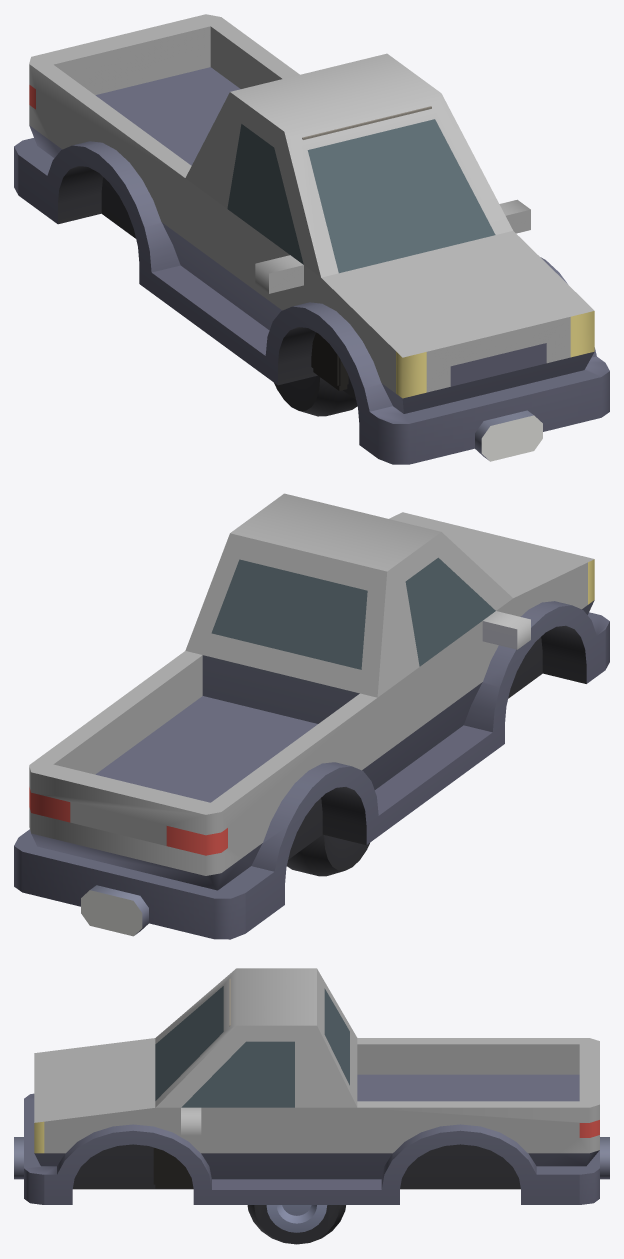
File: lagoon-pickup-v1.glb
3 views of the same model, one above another, from view 1: azimuth 30°, elevation 25°; view 2: azimuth 150°, elevation 25°; view 3: azimuth 270°, elevation 25° (orthographic). The views are drawn at different scales.
Visible parts, largest first — view 1: paint, trim, glass, headlamp, wheel, plate, interior; view 2: paint, trim, glass, wheel, taillamp, plate; view 3: paint, trim, glass, wheel, interior.
Boxes of the visible parts, bbox=[...] form: paint: bbox=[29, 14, 594, 393]; trim: bbox=[14, 67, 609, 464]; glass: bbox=[227, 119, 495, 273]; headlamp: bbox=[396, 311, 594, 398]; wheel: bbox=[274, 375, 357, 416]; plate: bbox=[481, 415, 542, 461]; interior: bbox=[302, 106, 431, 390]; paint: bbox=[29, 493, 594, 875]; trim: bbox=[14, 600, 609, 939]; glass: bbox=[211, 557, 495, 669]; wheel: bbox=[287, 834, 369, 876]; taillamp: bbox=[29, 787, 227, 855]; plate: bbox=[81, 890, 142, 936]; paint: bbox=[34, 968, 599, 1153]; trim: bbox=[14, 1074, 609, 1204]; glass: bbox=[155, 986, 349, 1107]; wheel: bbox=[247, 1205, 345, 1244]; interior: bbox=[153, 978, 230, 1188].
Size of the model in its own units: 1.95 by 2.32 by 5.16.
Materials: 8 (2 with a texture image).
